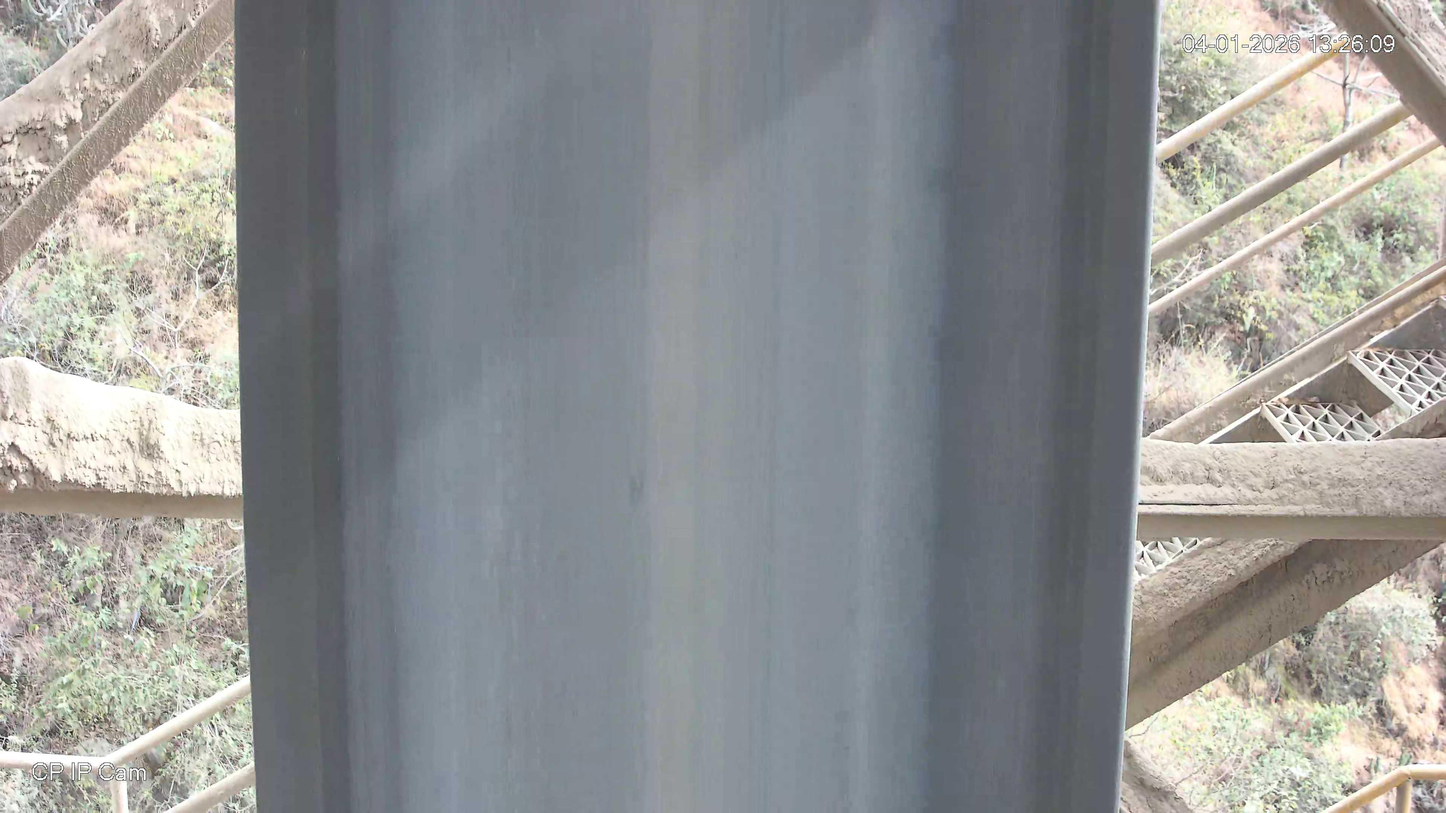belt_roi: (230, 0, 1165, 813)
